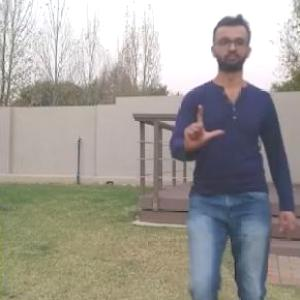land_hand: (177, 98, 227, 155)
